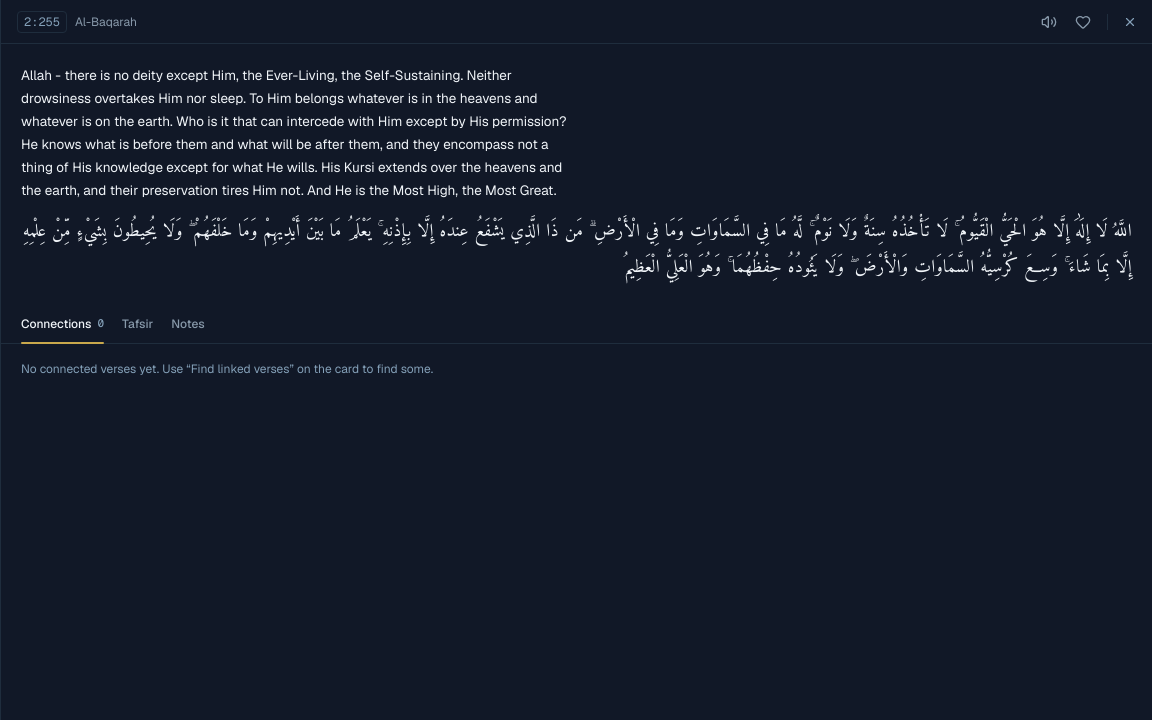
it: ContextSidebar — notes textarea accessibility › gives the notes textarea a programmatic accessible name
The image size is (1152, 720).
Click the tab "Notes".
click(188, 323)  # box x1=163 y1=304 x2=213 y2=343
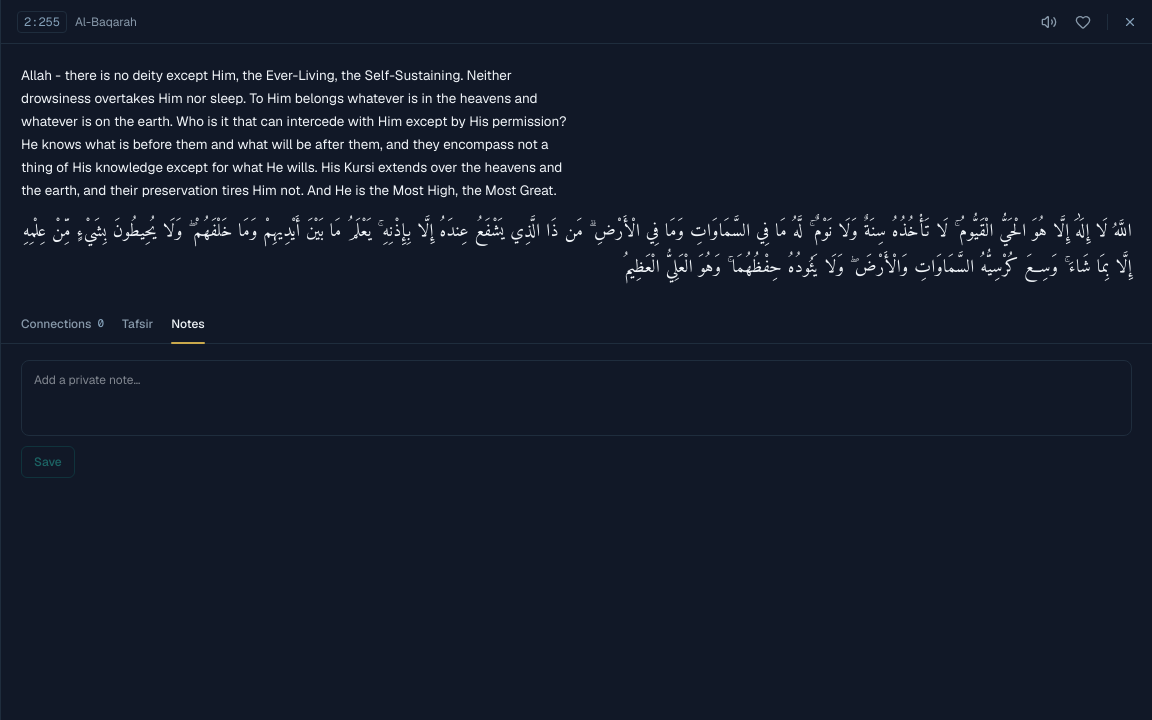
Result: the text box labelled "Add a private note…" is shown at x1=21 y1=360 x2=1132 y2=436
